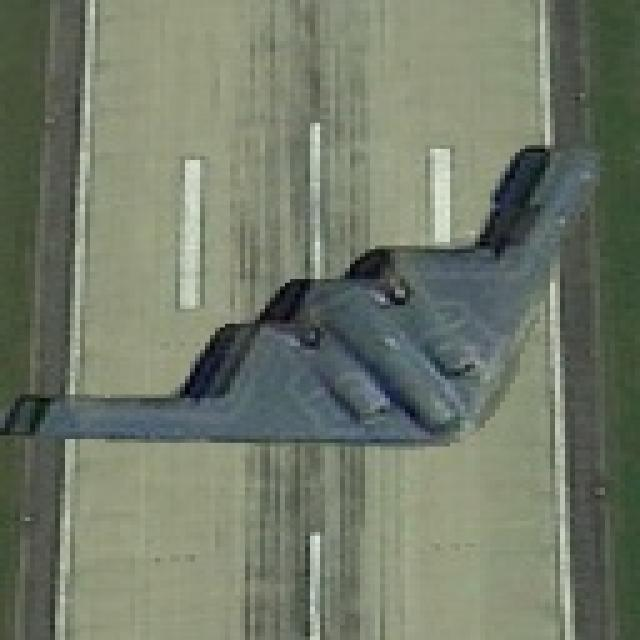B-2_TopDown: (0, 0, 635, 636), (0, 134, 605, 450)
